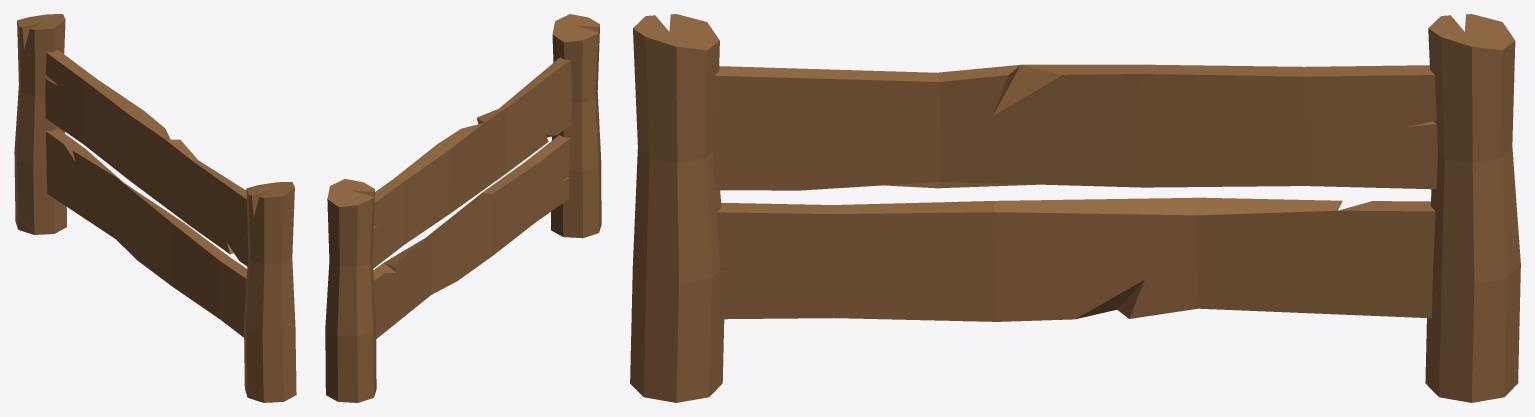
The model's file is Barriere.fbx.
The picture shows the model from 3 angles, left to right: view 1: azimuth 30°, elevation 25°; view 2: azimuth 150°, elevation 25°; view 3: azimuth 270°, elevation 25°; orthographic projection. The views are drawn at different scales.
Visible parts, largest first — view 1: Barriere; view 2: Barriere; view 3: Barriere.
Boxes of the visible parts, left/top/right/bottom form: Barriere: left=14, top=14, right=296, bottom=402; Barriere: left=325, top=14, right=601, bottom=402; Barriere: left=630, top=14, right=1520, bottom=402.
Bounding box in the file's own units: 30.33 × 129 × 290.
